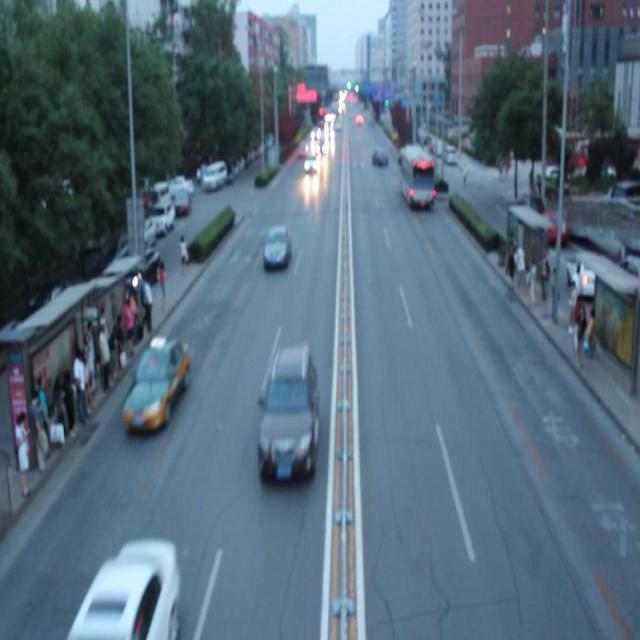car: (75, 540, 180, 640), (257, 348, 318, 478), (124, 332, 187, 428), (263, 227, 290, 265), (372, 146, 387, 166), (304, 155, 318, 171)
van: (398, 147, 435, 204)
